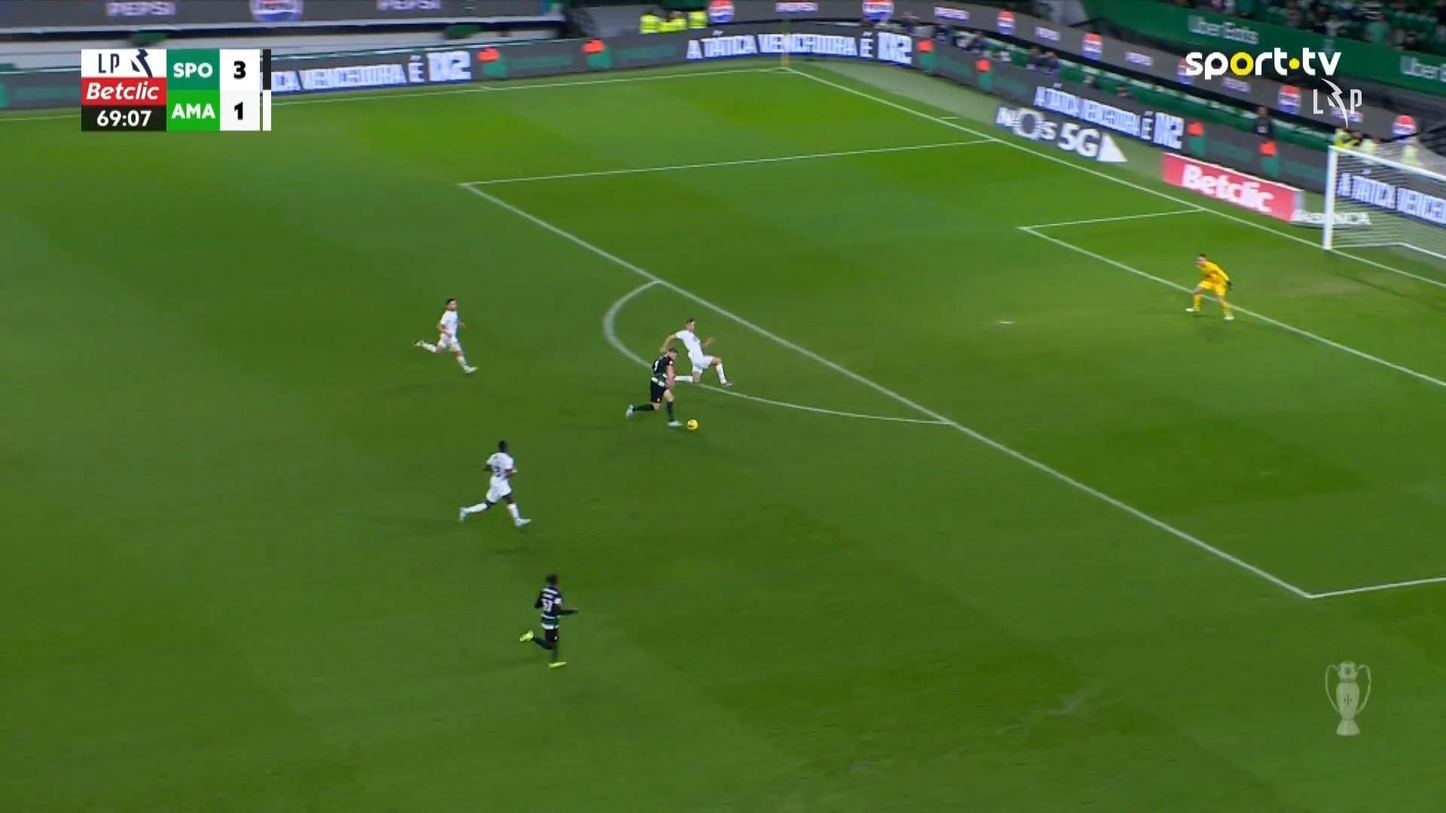ball: (686, 418, 697, 431)
goalkeeper: (1185, 252, 1235, 321)
player: (457, 439, 532, 528), (518, 572, 578, 668), (660, 316, 734, 387), (412, 297, 478, 373), (624, 346, 683, 428)
